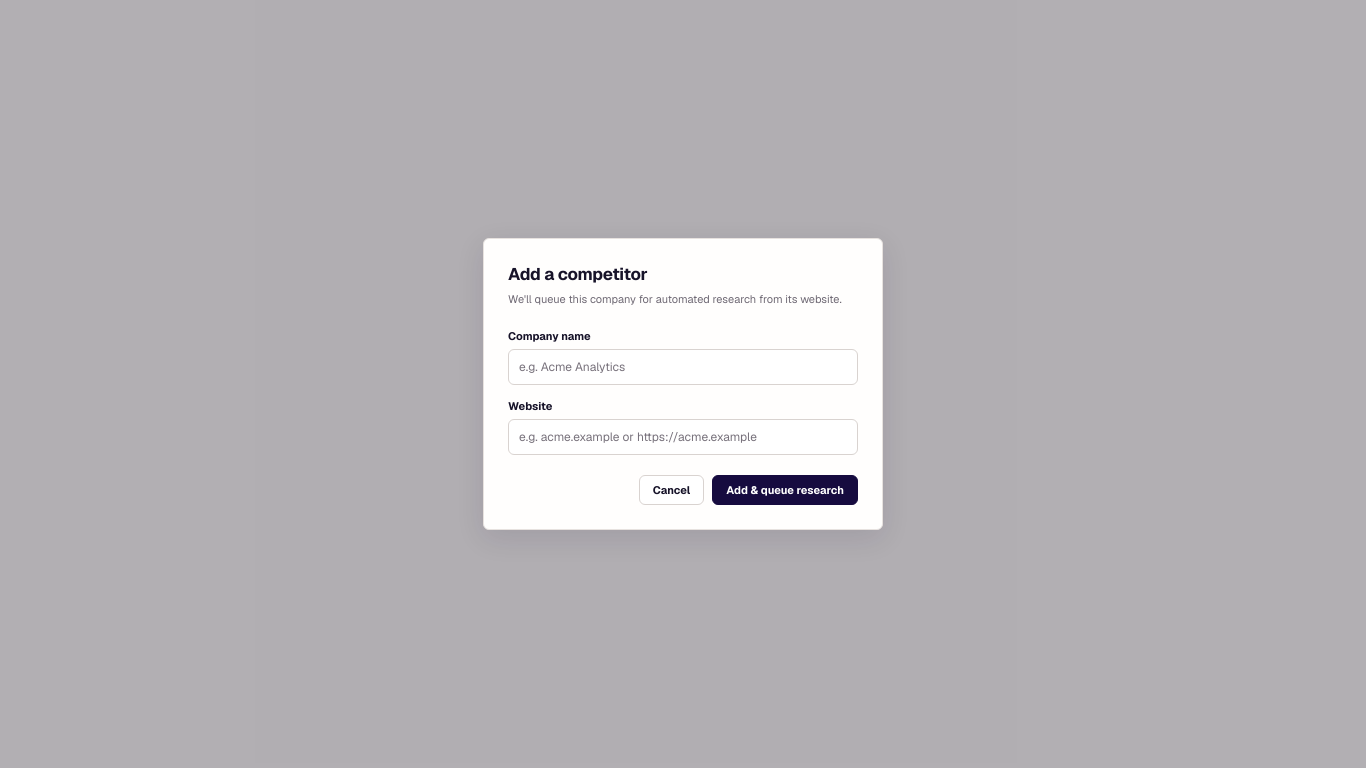
Test: AddCompetitorModal › flags missing fields without calling the API
Click the button "Add & queue research".
click(785, 490)  # box [712,475,858,505]
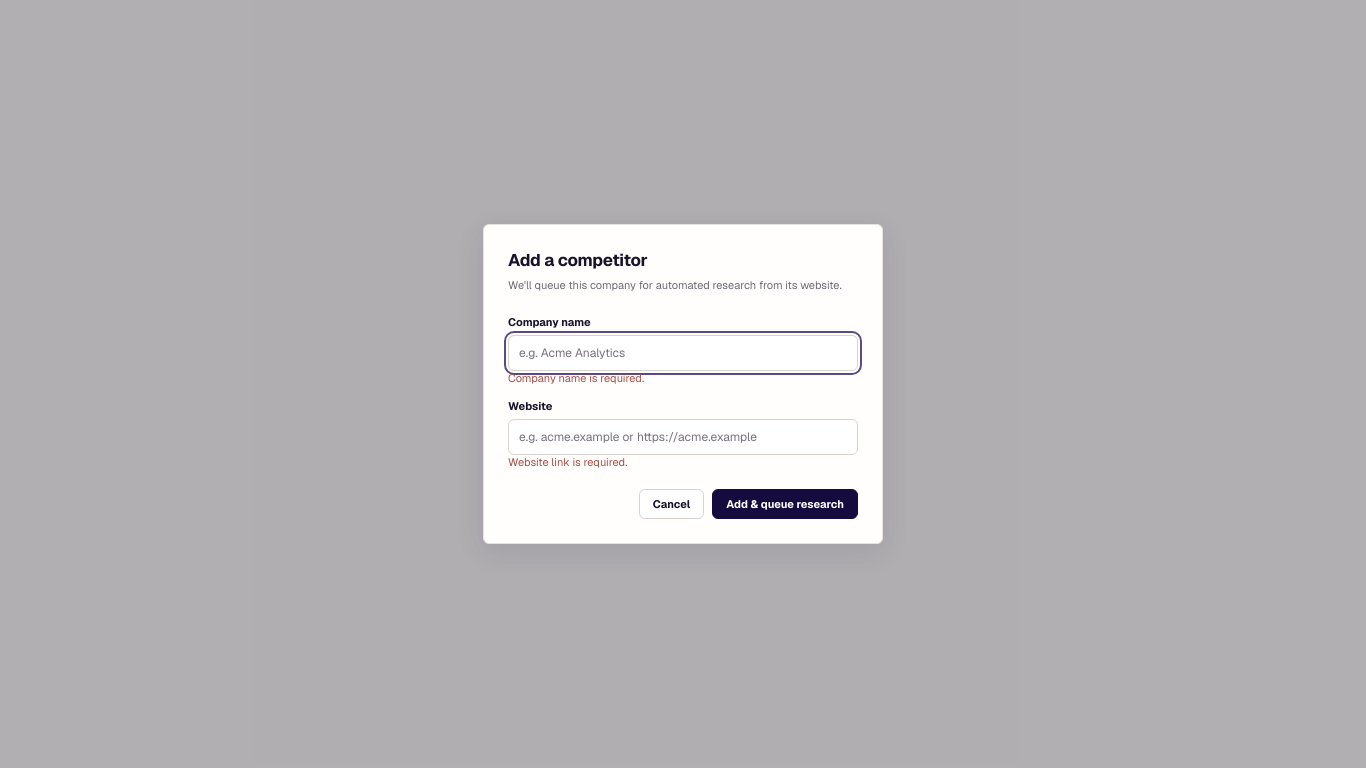
Check: the text "Company name is required." is shown, box [508,371,644,385]
Check: the text "Website link is required." is shown, box [508,455,627,469]
